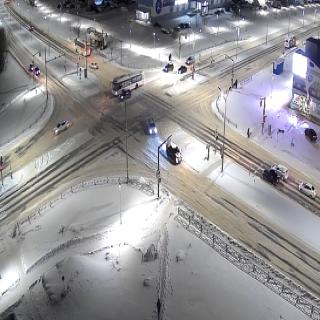large-vehicle: (112, 70, 144, 95), (74, 38, 90, 56), (286, 36, 296, 49)
small-vehicle: (166, 142, 183, 166), (262, 167, 280, 185), (274, 163, 289, 182), (53, 118, 69, 135), (299, 182, 316, 198), (146, 118, 157, 138), (304, 127, 318, 142), (163, 61, 174, 74), (180, 21, 192, 32), (178, 64, 187, 76), (185, 56, 195, 66), (33, 65, 41, 76), (161, 27, 170, 36), (89, 62, 99, 70), (29, 61, 35, 72), (28, 24, 33, 31)
